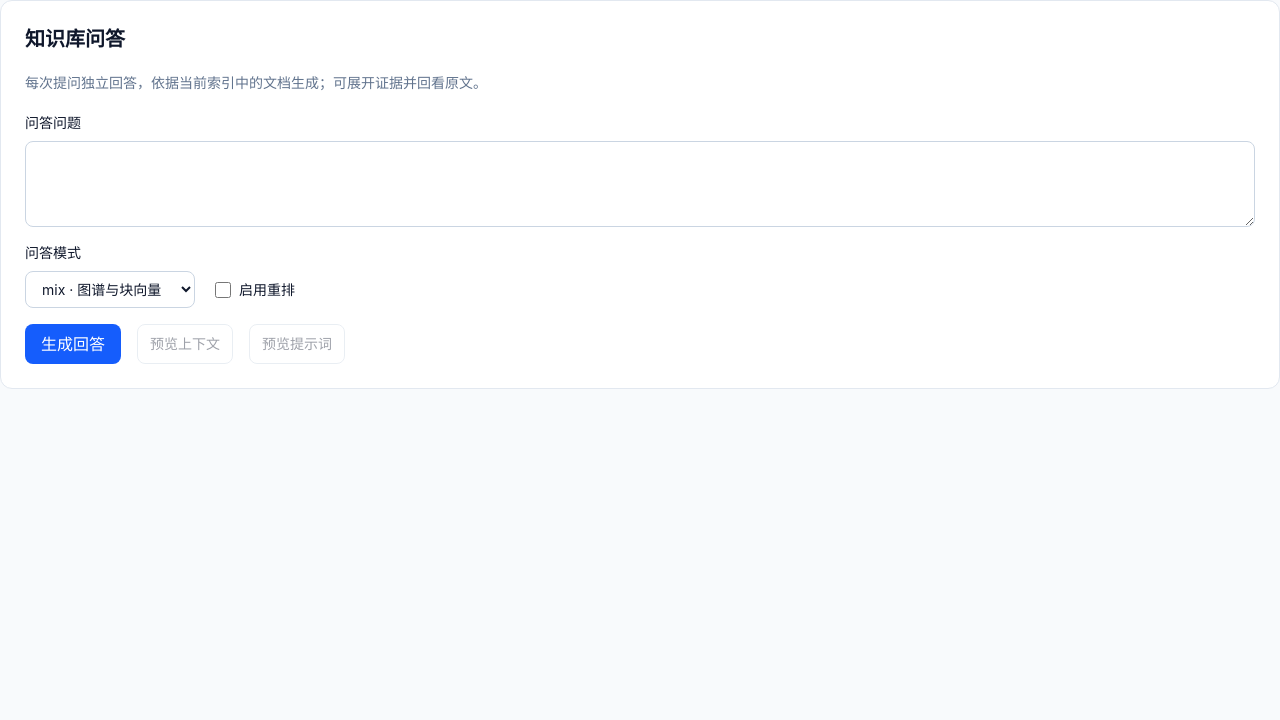
keeps partial output but shows an interrupted-stream error without success
Type "问题" into the text box labelled "问答问题" at (640, 184), box left=25, top=141, right=1255, bottom=227
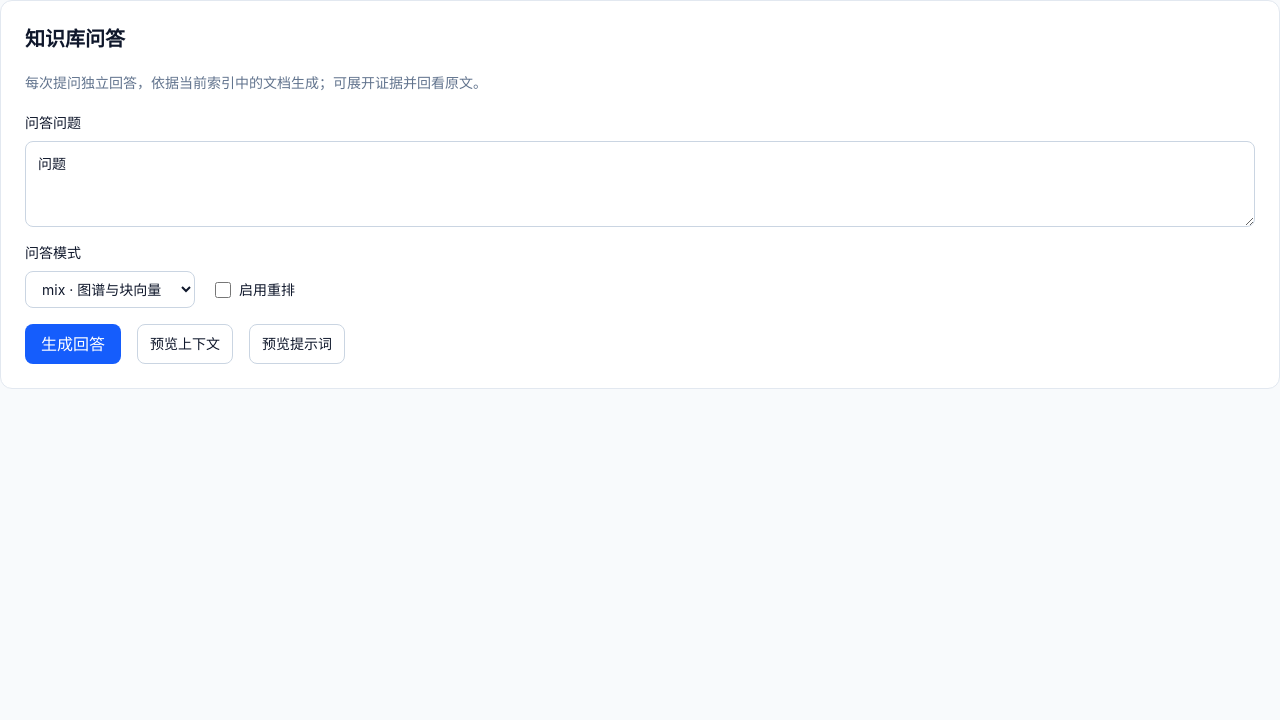
Click the button "生成回答" at (73, 344), box left=25, top=324, right=121, bottom=364
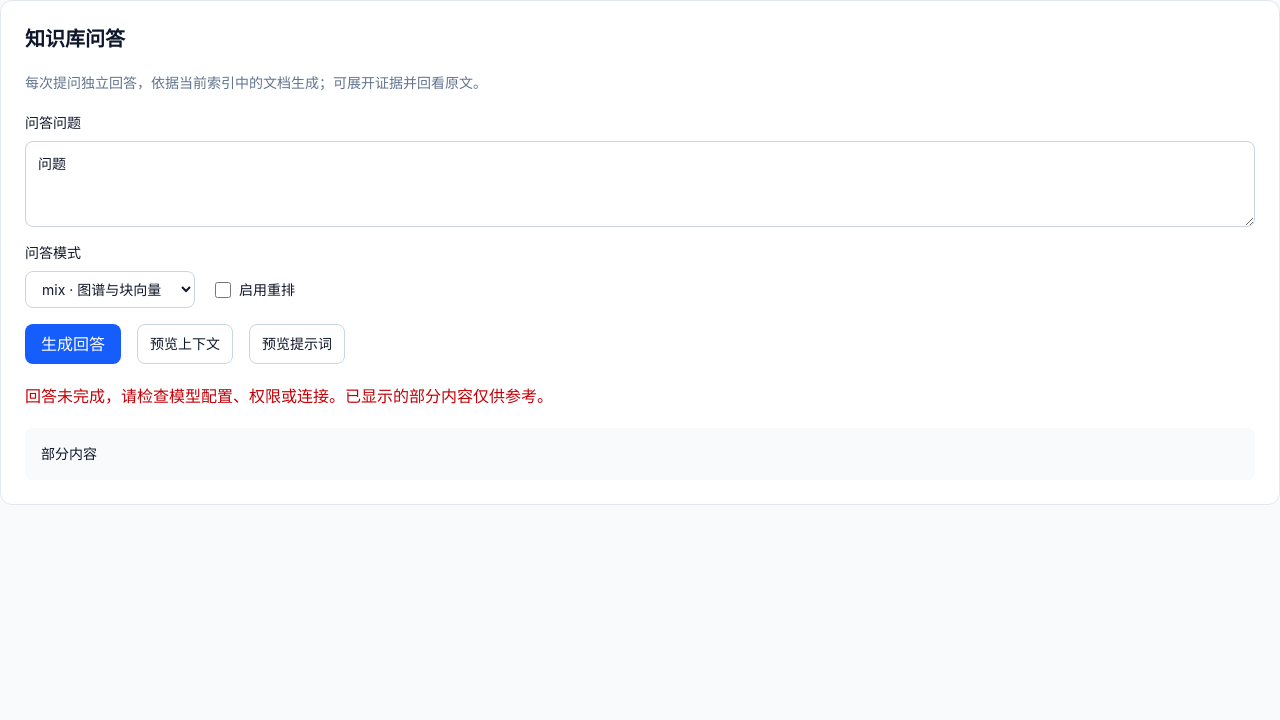
Now the message "回答未完成，请检查模型配置、权限或连接。已显示的部分内容仅供参考。" is shown, box left=25, top=386, right=553, bottom=406
Now the text "部分内容" is shown, box left=25, top=428, right=1255, bottom=480
